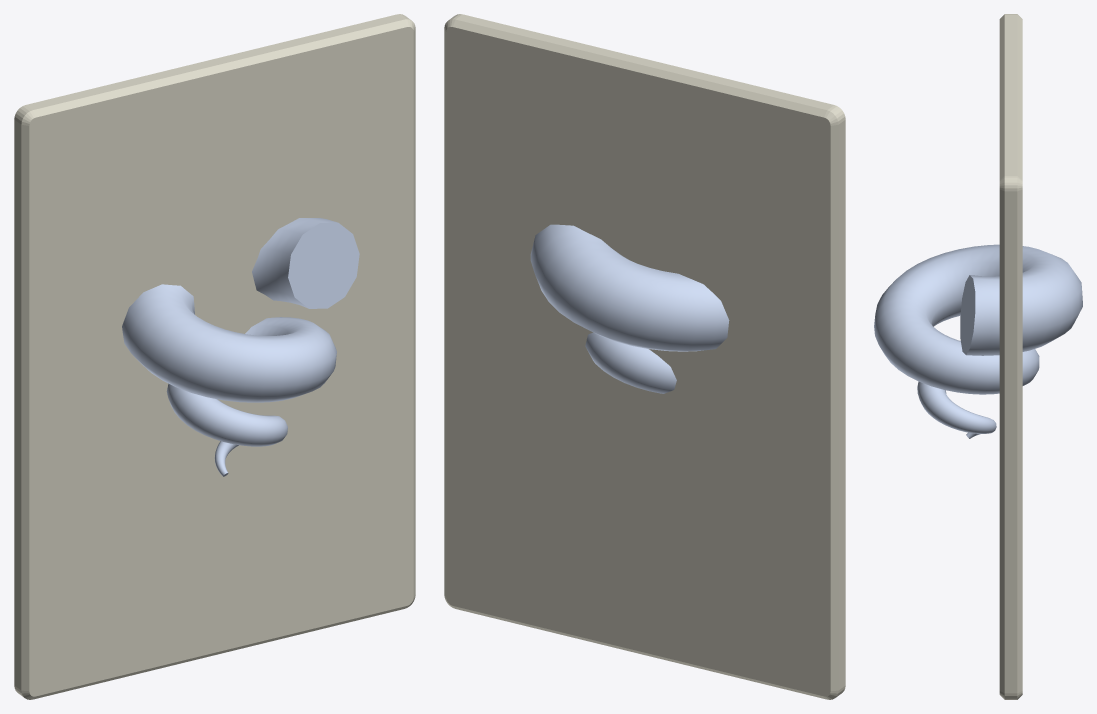
Rendered from pickup_conch_ticket_HUD.glb.
The picture shows the model from 3 angles, left to right: view 1: azimuth 30°, elevation 25°; view 2: azimuth 150°, elevation 25°; view 3: azimuth 270°, elevation 25°; orthographic projection. The views are drawn at different scales.
Size of the model in its own units: 14 by 20 by 7.24.
